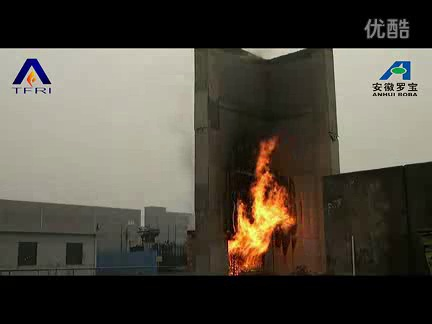fire: (223, 133, 299, 278)
